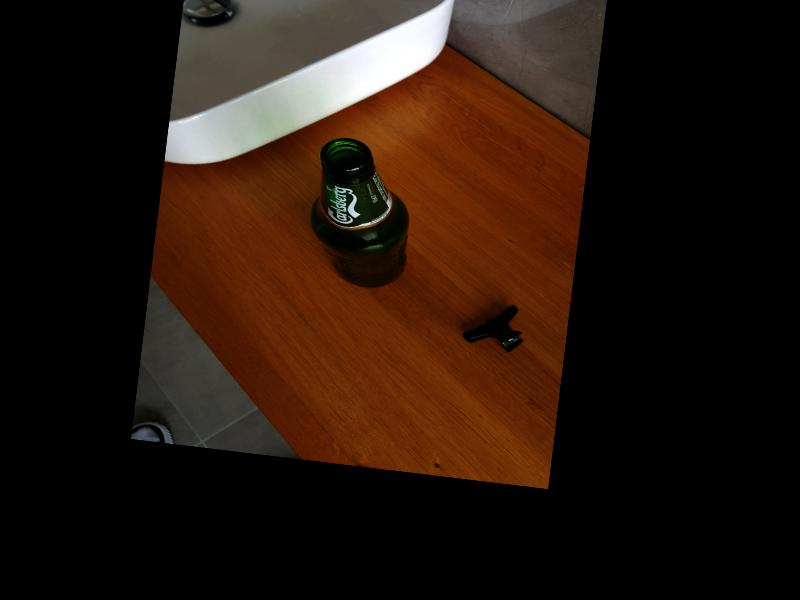Beer: (304, 136, 418, 292)
